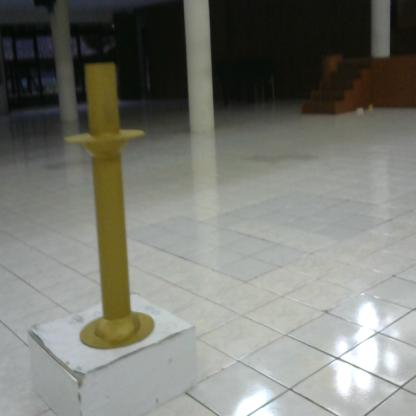pole: (61, 57, 164, 359)
